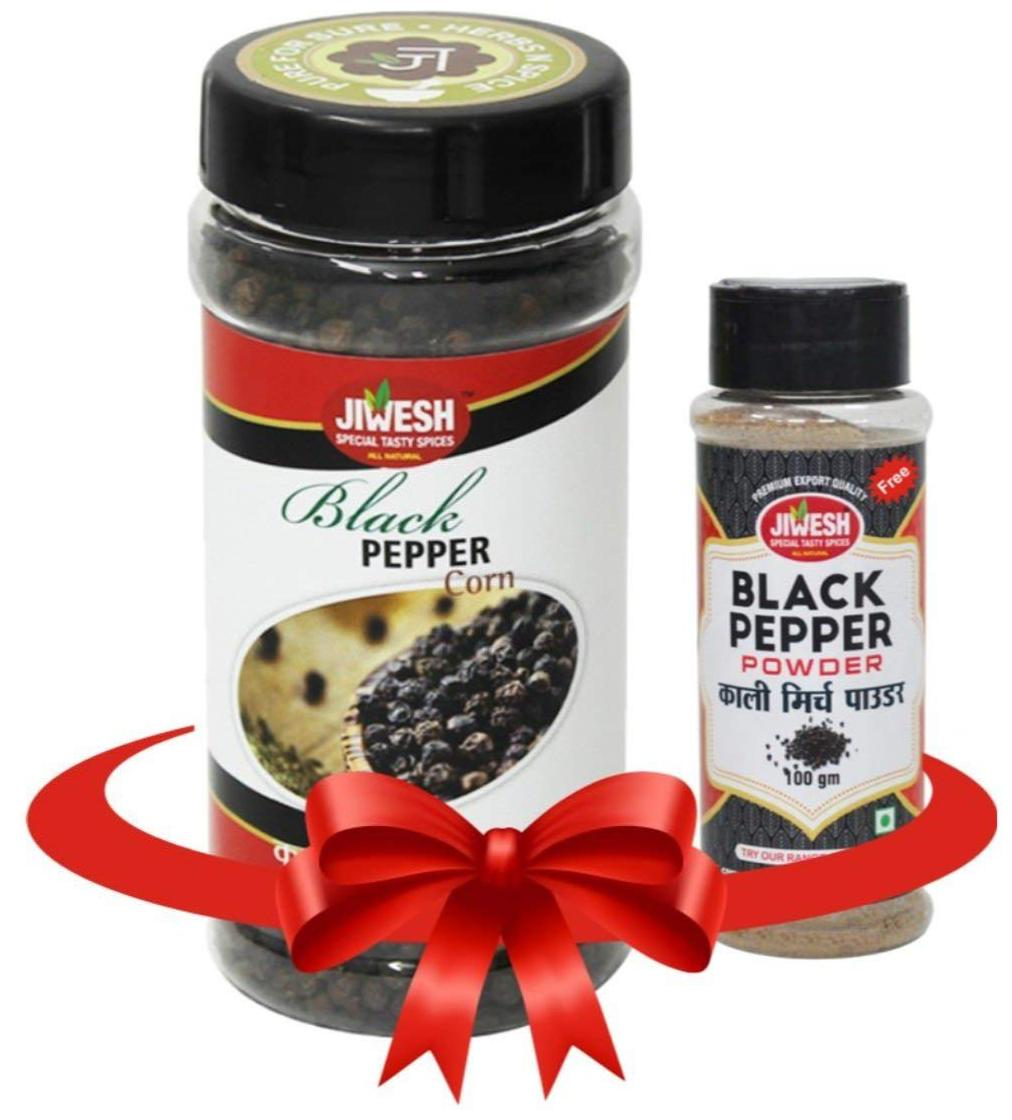JAR: (185, 5, 645, 1043)
